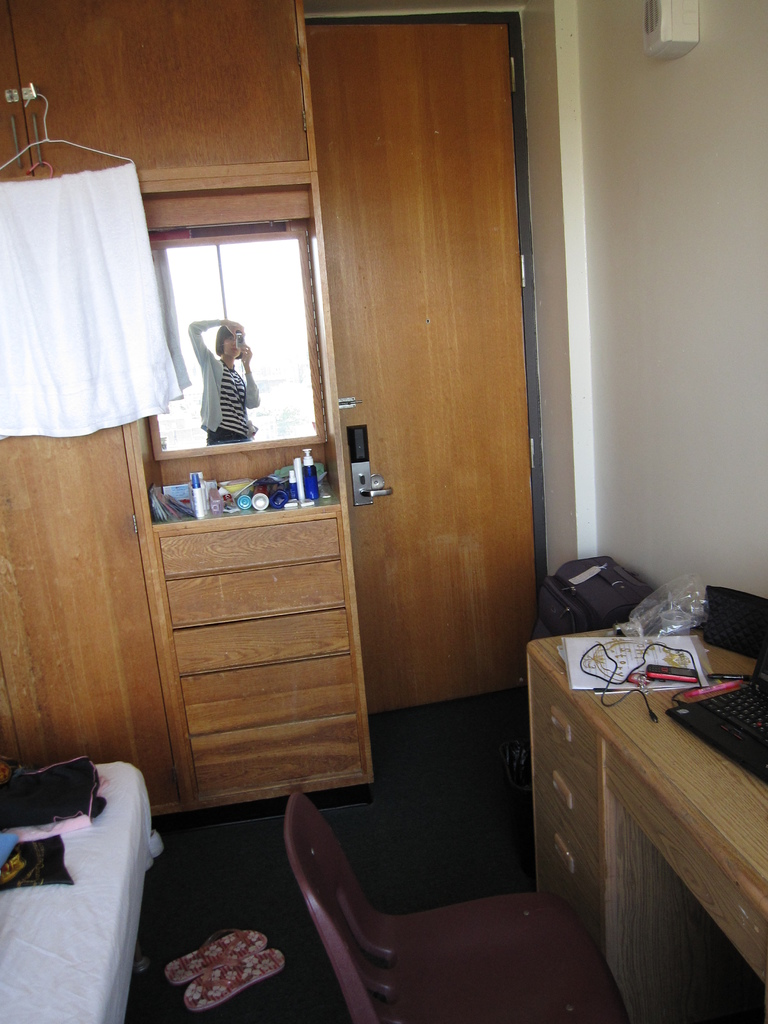cabinet door: (169, 533, 335, 575), (171, 579, 341, 620), (178, 631, 343, 668), (185, 680, 347, 717), (538, 838, 602, 905), (534, 765, 599, 826), (533, 695, 594, 750)
door: (332, 27, 531, 681)
handle: (166, 550, 343, 570), (184, 653, 352, 667), (173, 602, 346, 612), (551, 835, 577, 885), (359, 469, 394, 506), (548, 771, 575, 818), (550, 705, 574, 747)
